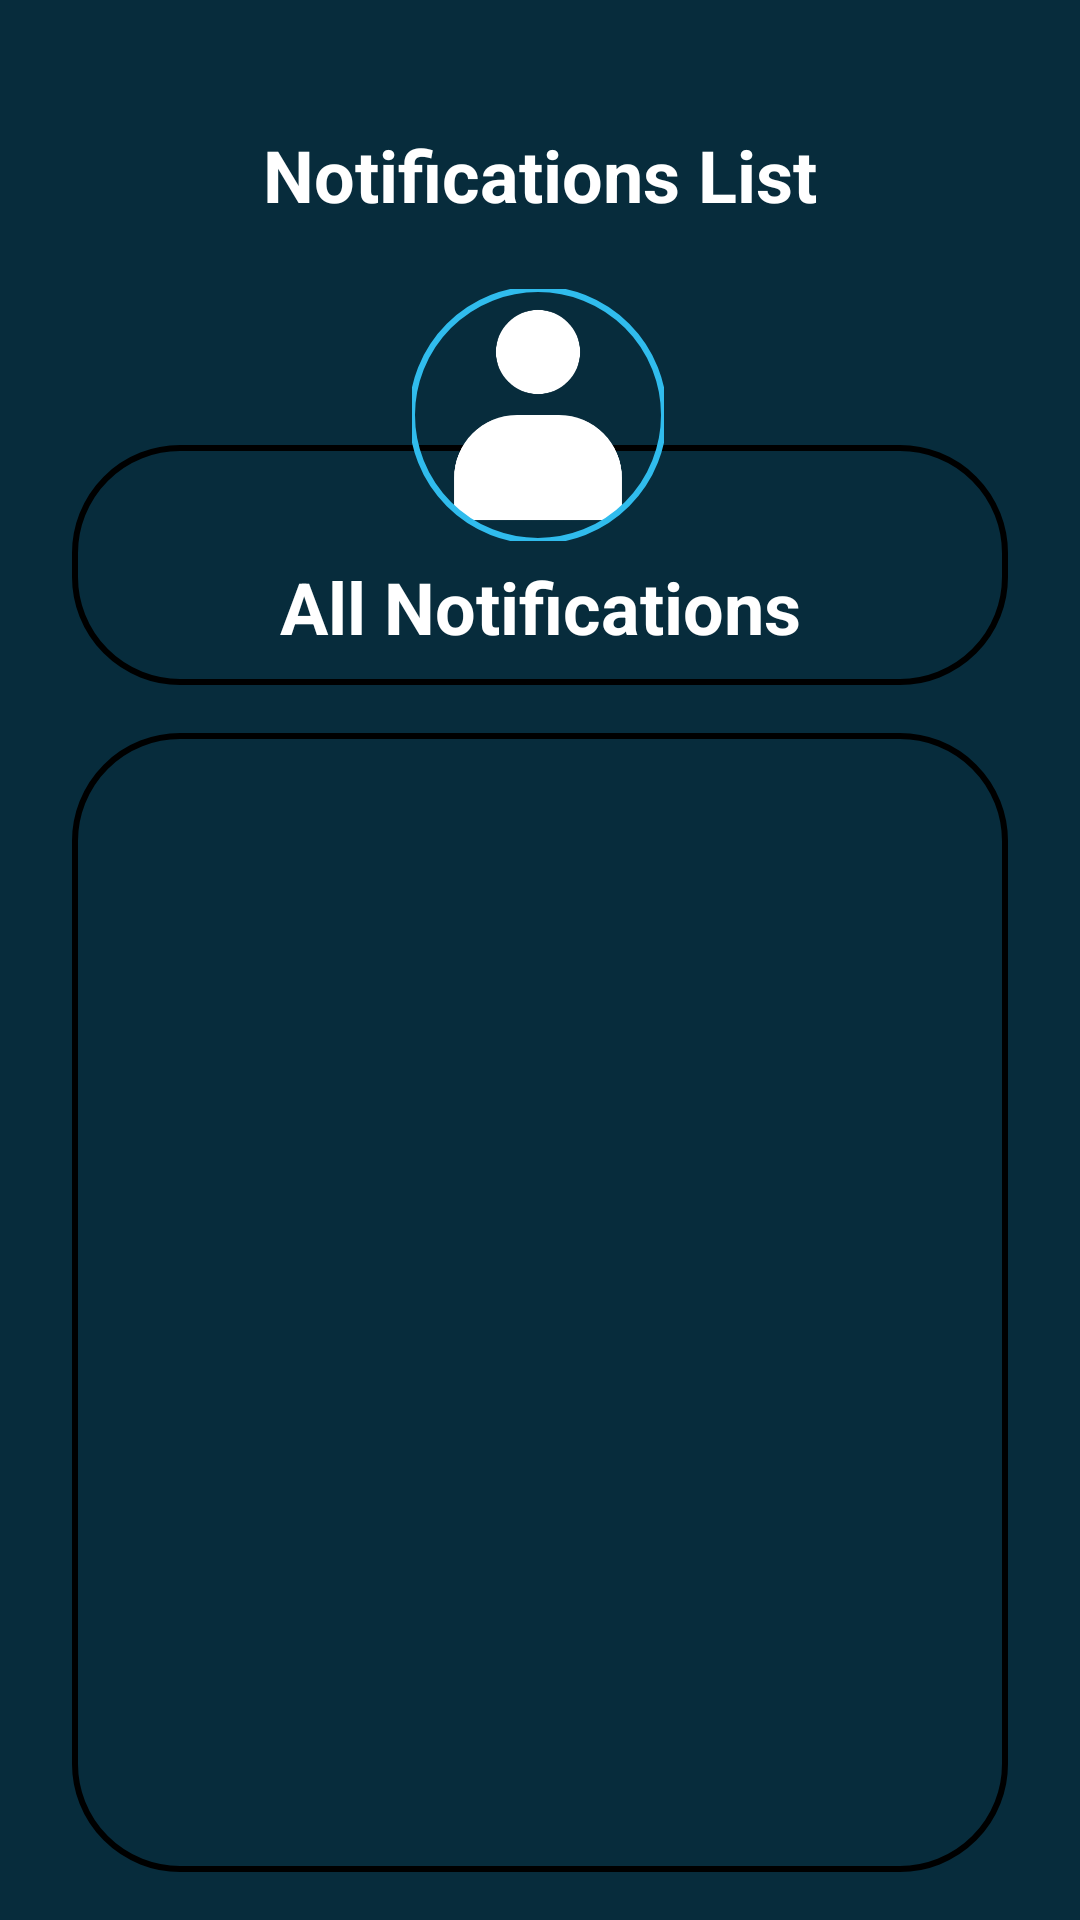

Screen size 1080 x 1920. Icon name, then its center in pixels as [x,y]:
profile: [538,415]
